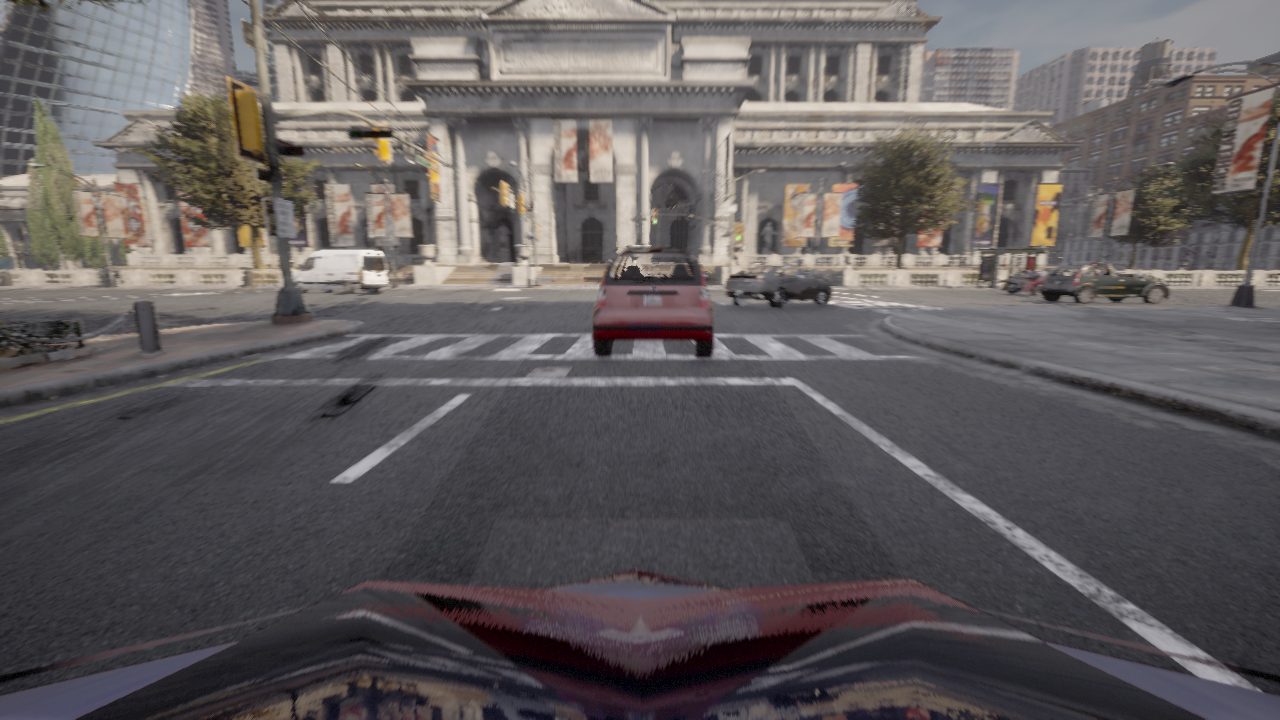cyclist: (0, 569, 1279, 719), (591, 247, 713, 357), (1040, 263, 1168, 304), (724, 265, 830, 308), (293, 249, 388, 294), (1001, 270, 1053, 295)
